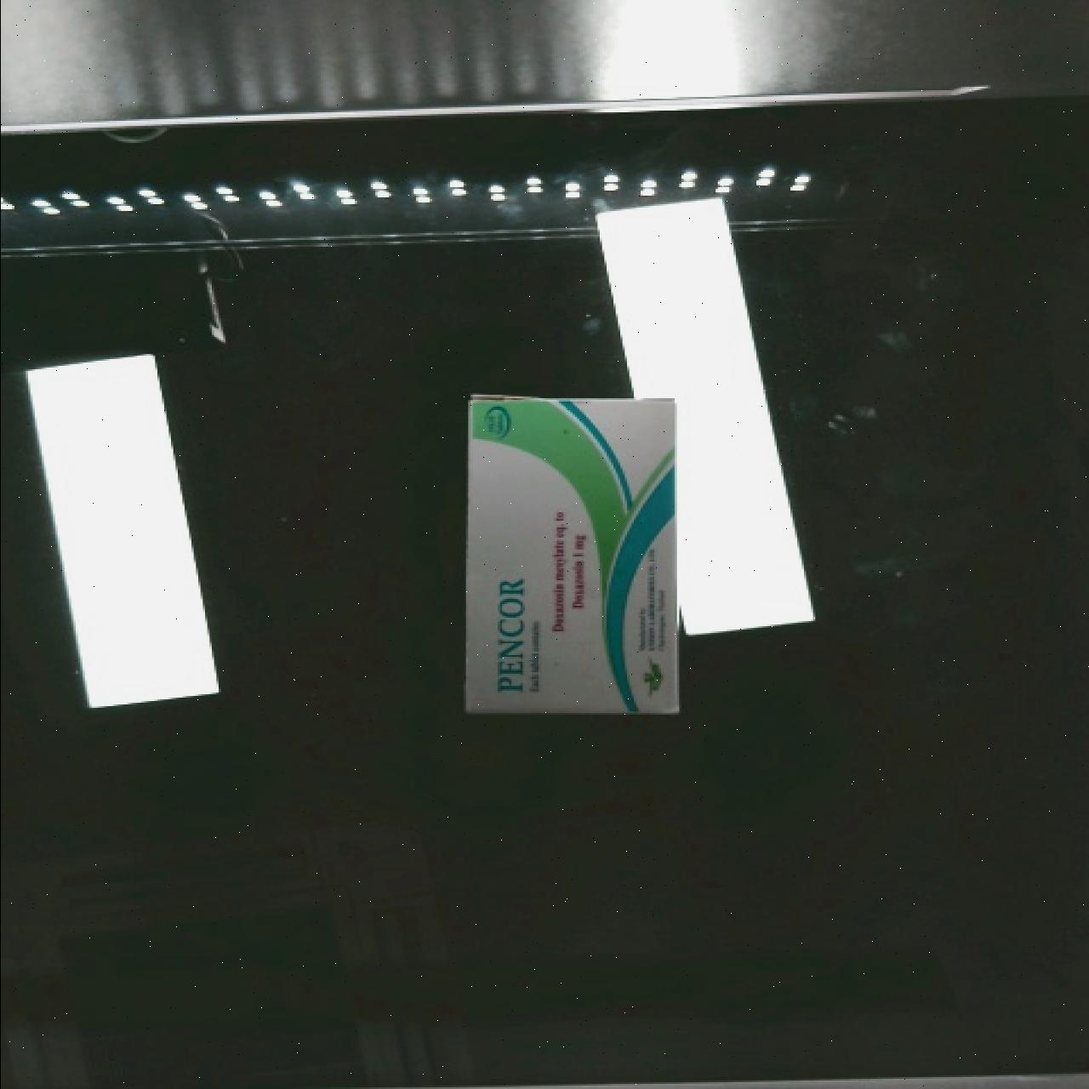medicine_label_obb: (476, 557, 542, 709)
